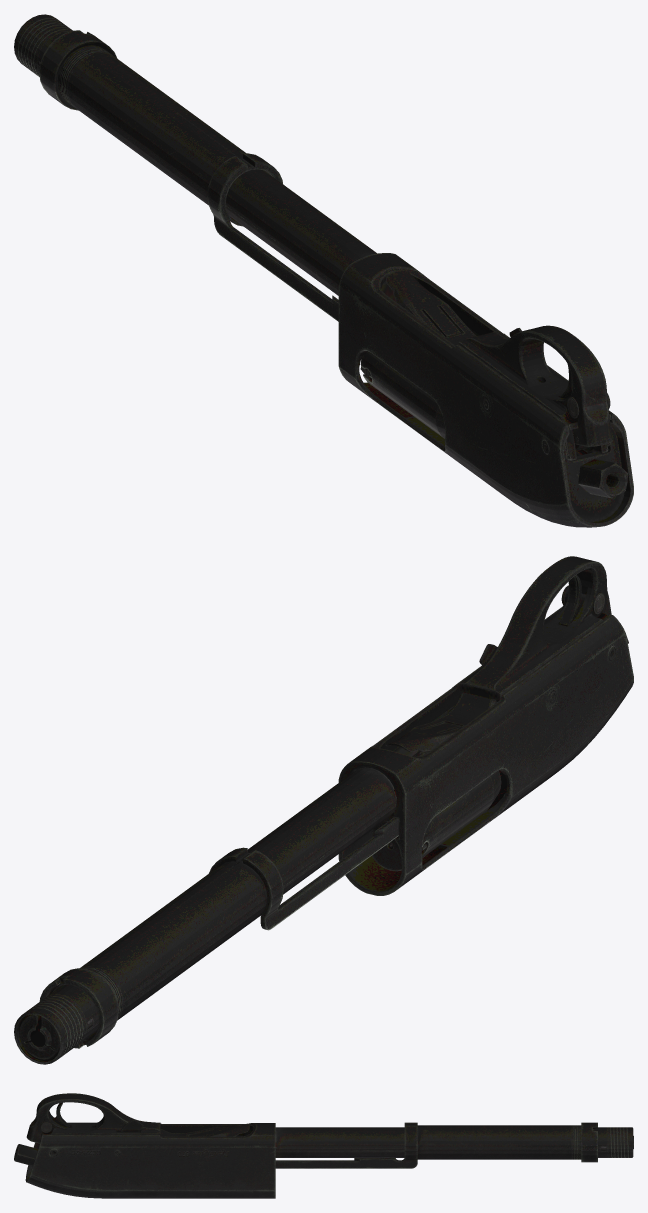
3 renders of one model, top to bottom at view 1: azimuth 30°, elevation 25°; view 2: azimuth 150°, elevation 25°; view 3: azimuth 270°, elevation 25°, orthographic. The views are drawn at different scales.
Visible parts, largest first — view 1: TW_5a7828548dc32e5a9c28b516_PZ_Import; view 2: TW_5a7828548dc32e5a9c28b516_PZ_Import; view 3: TW_5a7828548dc32e5a9c28b516_PZ_Import.
Part boxes in pixels (<box>): TW_5a7828548dc32e5a9c28b516_PZ_Import: <box>14,14,633,527</box>; TW_5a7828548dc32e5a9c28b516_PZ_Import: <box>14,556,633,1064</box>; TW_5a7828548dc32e5a9c28b516_PZ_Import: <box>14,1093,633,1198</box>.
Bounding box in the file's own units: 0.0204 × 0.3083 × 0.0549.
1 material, 1 textured.
